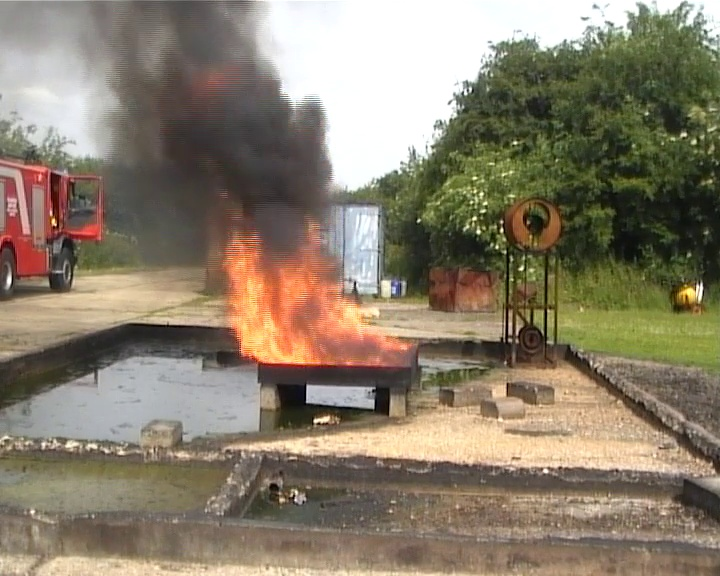fire: (228, 238, 382, 365)
